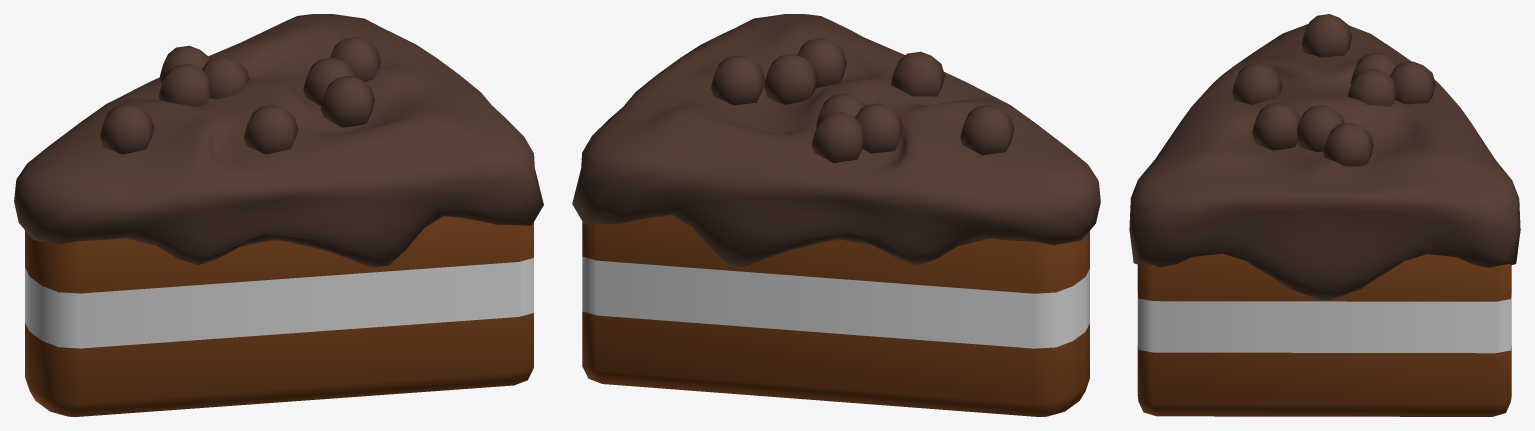
File: Cake1.fbx
3 renders of one model, left to right at view 1: azimuth 30°, elevation 25°; view 2: azimuth 150°, elevation 25°; view 3: azimuth 270°, elevation 25°, orthographic. The views are drawn at different scales.
Parts seen in each view (by area): view 1: Cube.159, Sphere.040, Sphere.047, Sphere.044, Sphere.042, Sphere.046, Sphere.045, Sphere.041, Sphere.048, Sphere.043; view 2: Cube.159, Sphere.040, Sphere.048, Sphere.044, Sphere.041, Sphere.043, Sphere.042, Sphere.046, Sphere.047, Sphere.045; view 3: Sphere.040, Cube.159, Sphere.047, Sphere.044, Sphere.041, Sphere.042, Sphere.043, Sphere.048, Sphere.045, Sphere.046.
Boxes of the visible parts, left/top/right/bottom form: Cube.159: left=25, top=216, right=533, bottom=416; Sphere.040: left=14, top=14, right=543, bottom=267; Sphere.047: left=321, top=75, right=374, bottom=127; Sphere.044: left=100, top=104, right=154, bottom=154; Sphere.042: left=244, top=105, right=298, bottom=154; Sphere.046: left=159, top=64, right=210, bottom=106; Sphere.045: left=202, top=56, right=249, bottom=99; Sphere.041: left=330, top=37, right=380, bottom=81; Sphere.048: left=303, top=57, right=355, bottom=105; Sphere.043: left=159, top=45, right=210, bottom=84; Cube.159: left=582, top=215, right=1089, bottom=416; Sphere.040: left=572, top=14, right=1100, bottom=267; Sphere.048: left=764, top=54, right=817, bottom=104; Sphere.044: left=960, top=105, right=1014, bottom=155; Sphere.041: left=711, top=55, right=764, bottom=105; Sphere.043: left=812, top=112, right=863, bottom=163; Sphere.042: left=891, top=51, right=944, bottom=96; Sphere.046: left=855, top=103, right=903, bottom=153; Sphere.047: left=797, top=38, right=846, bottom=88; Sphere.045: left=816, top=93, right=865, bottom=127; Sphere.040: left=1129, top=24, right=1520, bottom=300; Cube.159: left=1137, top=253, right=1511, bottom=416; Sphere.047: left=1252, top=102, right=1300, bottom=150; Sphere.044: left=1301, top=14, right=1352, bottom=57; Sphere.041: left=1323, top=122, right=1373, bottom=166; Sphere.042: left=1232, top=62, right=1282, bottom=104; Sphere.043: left=1390, top=61, right=1435, bottom=104; Sphere.048: left=1297, top=105, right=1344, bottom=151; Sphere.045: left=1348, top=69, right=1395, bottom=106; Sphere.046: left=1350, top=52, right=1397, bottom=84.
Bounding box in the file's own units: 34.79 × 22.13 × 29.35.
